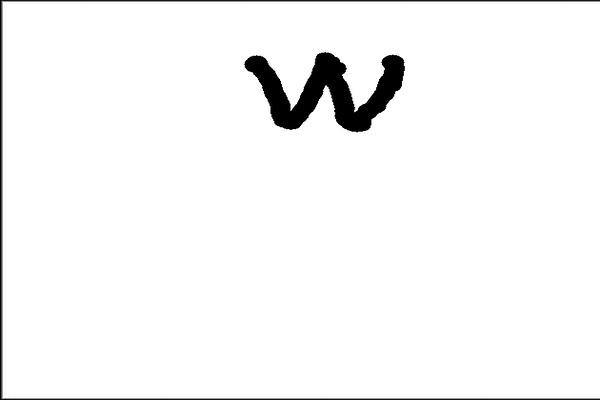w: (235, 39, 414, 144)
